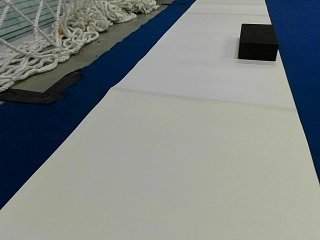block: (238, 24, 278, 61)
